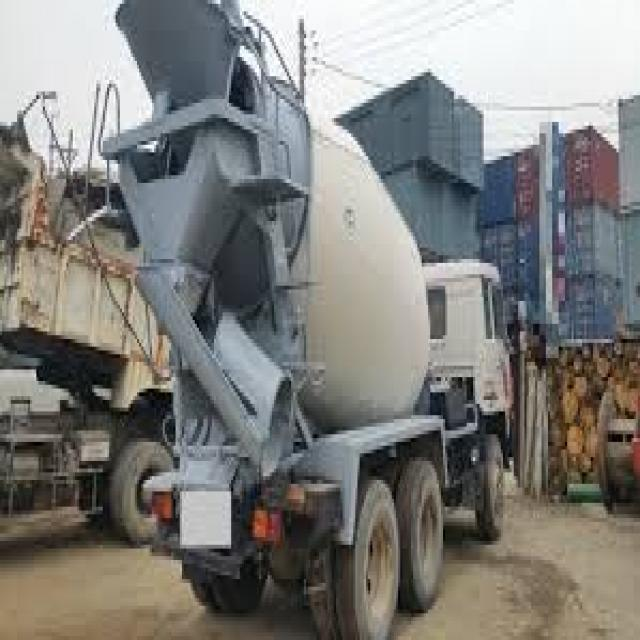Mixer Truck: (98, 2, 516, 636)
